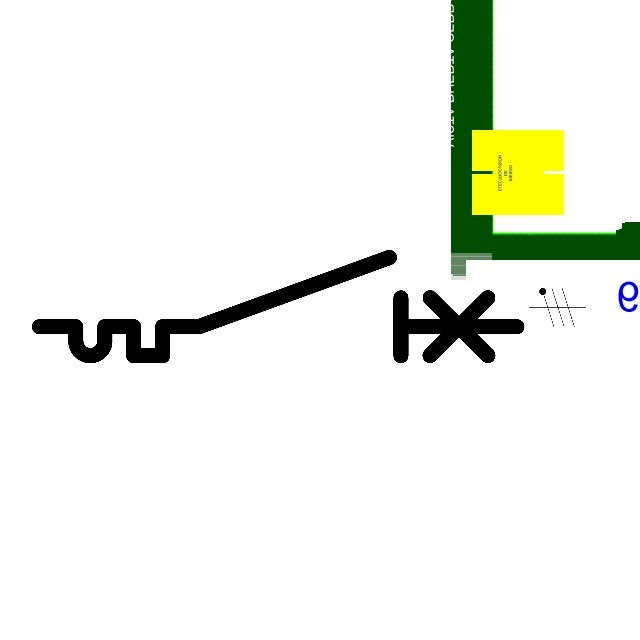interruptor_termomagnetico: (27, 245, 529, 368)
